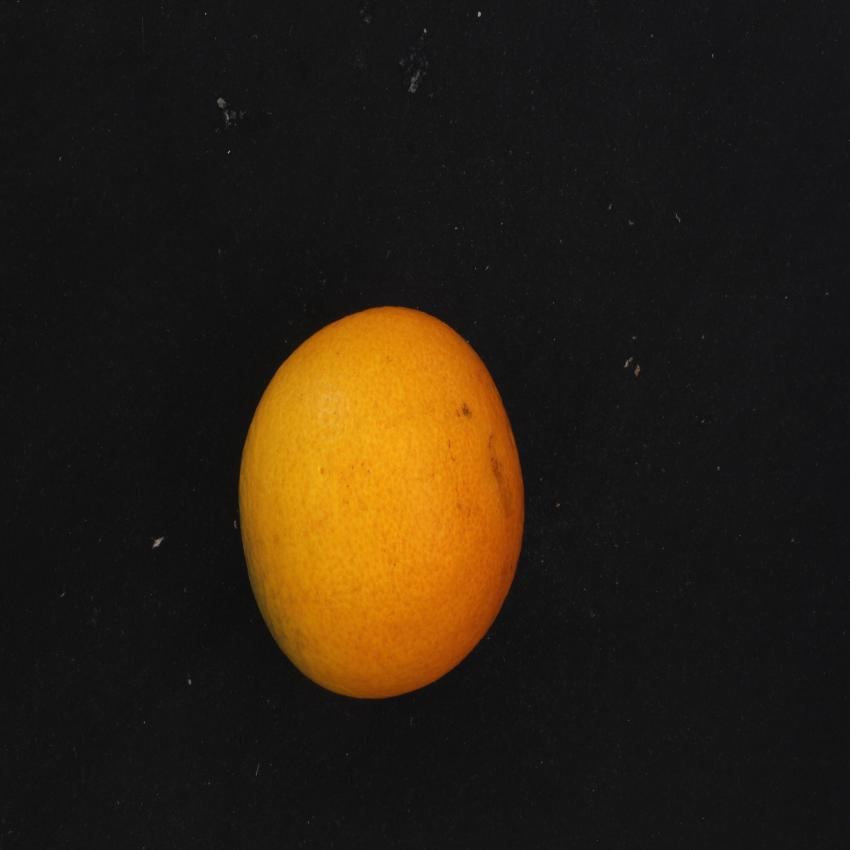Buen estado: (235, 289, 532, 716)
